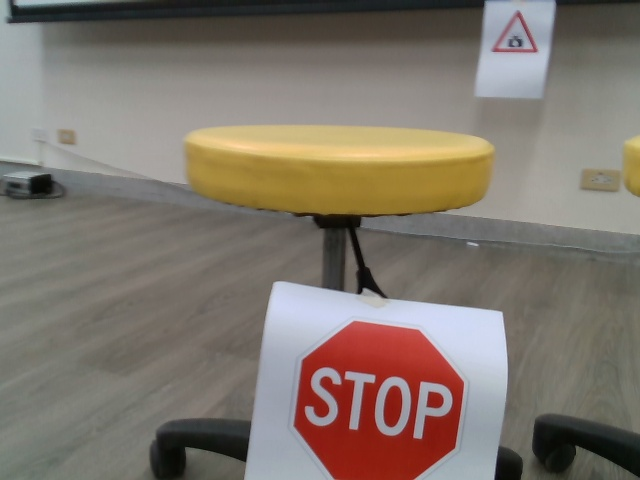stop: (288, 314, 472, 480)
